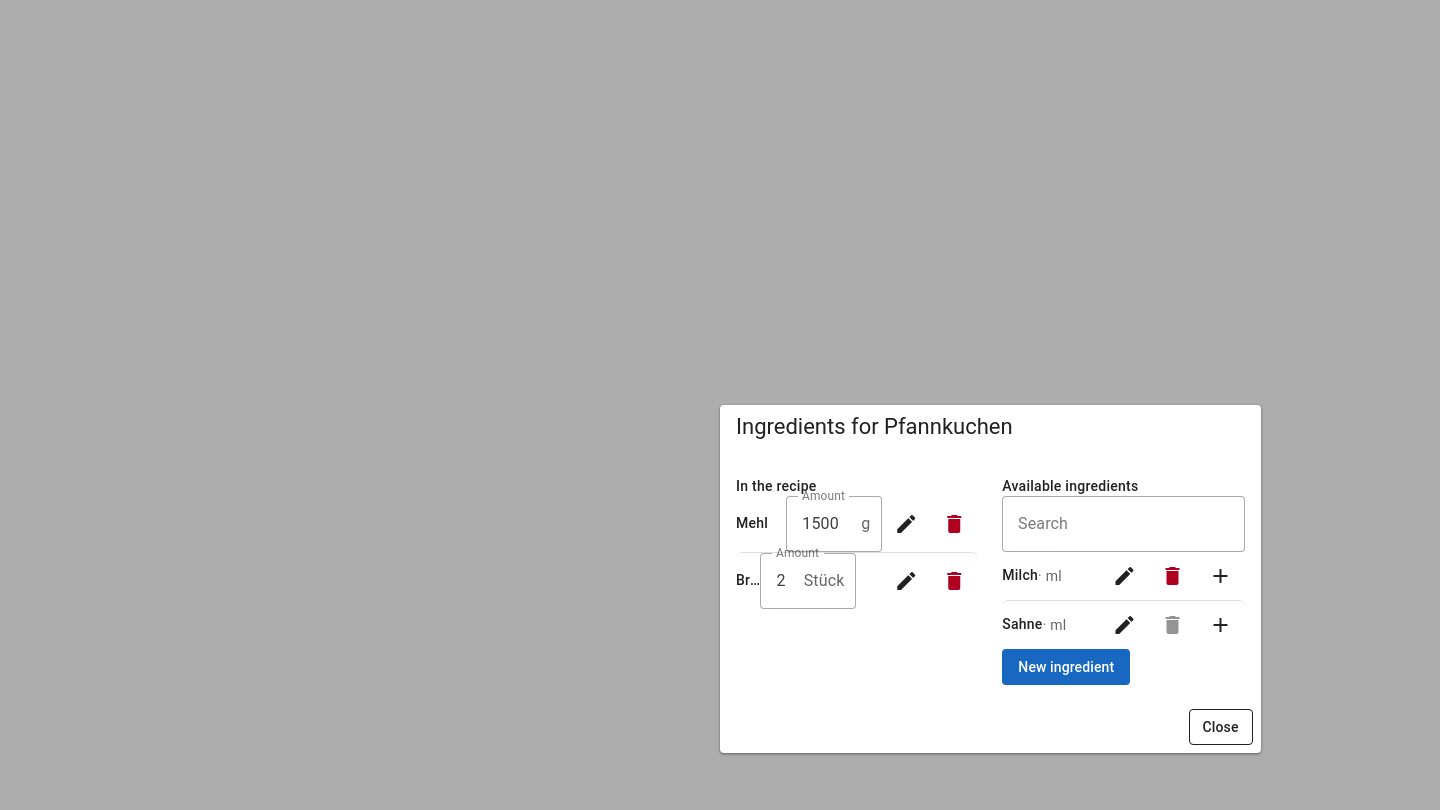
a recipe line whose amount is refused › refuses an amount of zero locally in English and sends nothing
Check: the element with test id "recipe-line" showing "Mehl g Amount" is shown, box x1=736 y1=496 x2=978 y2=552
Replace the text in the 1st field labelled "Amount" with "0" at {"x": 824, "y": 524}, box x1=786 y1=496 x2=861 y2=552
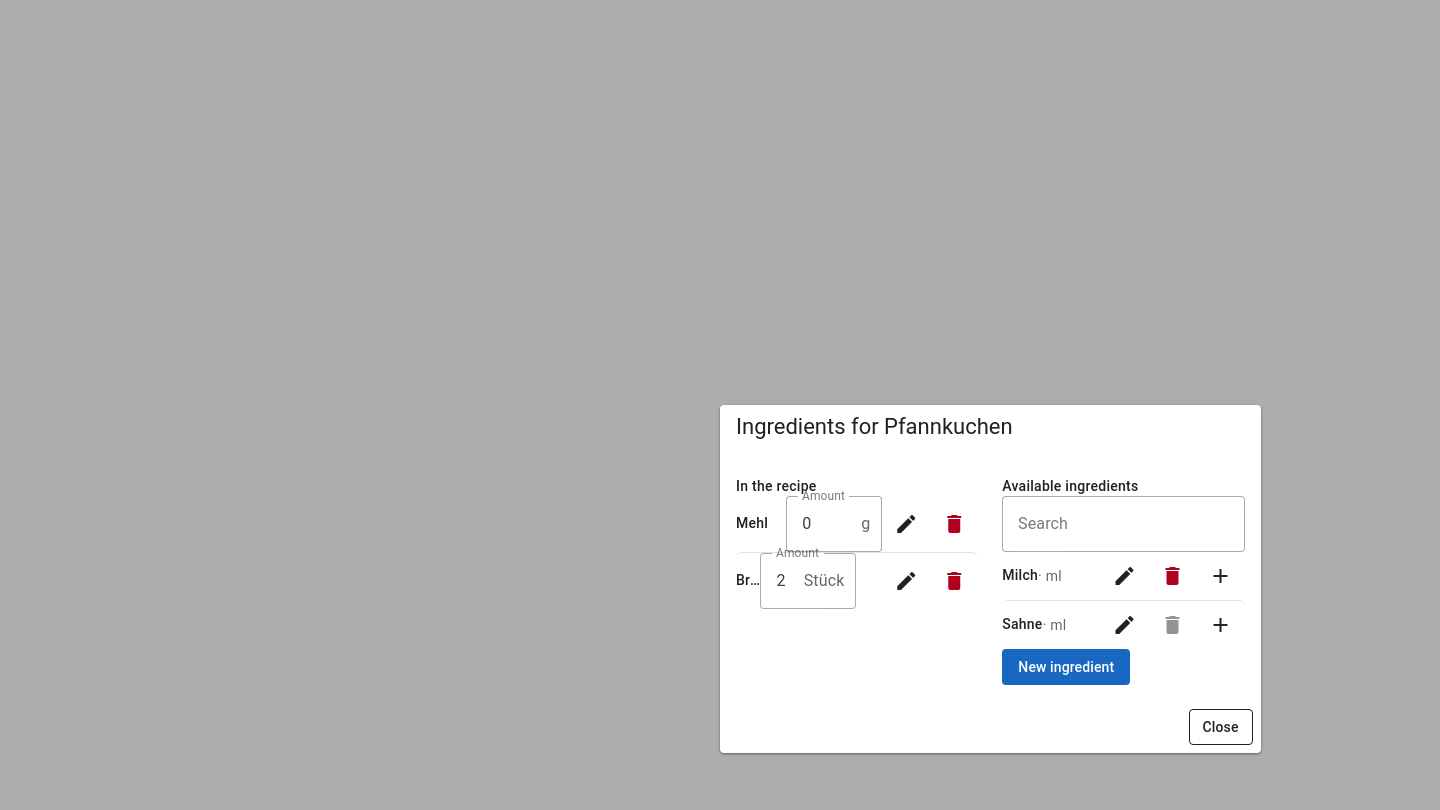
Leave the 1st field labelled "Amount", box x1=786 y1=496 x2=861 y2=552
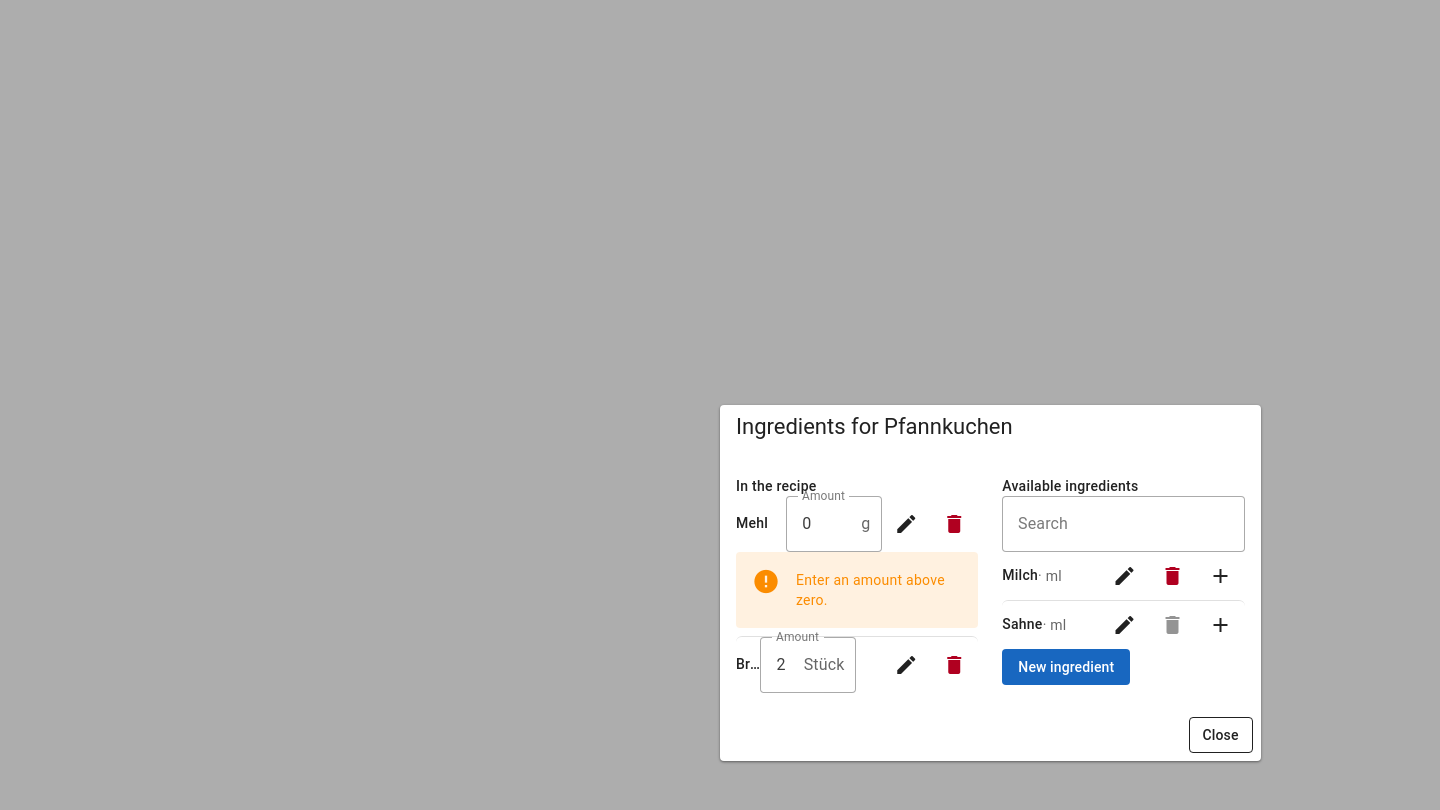
Check: the element showing "Enter an amount above zero." is shown, box x1=736 y1=552 x2=978 y2=628
